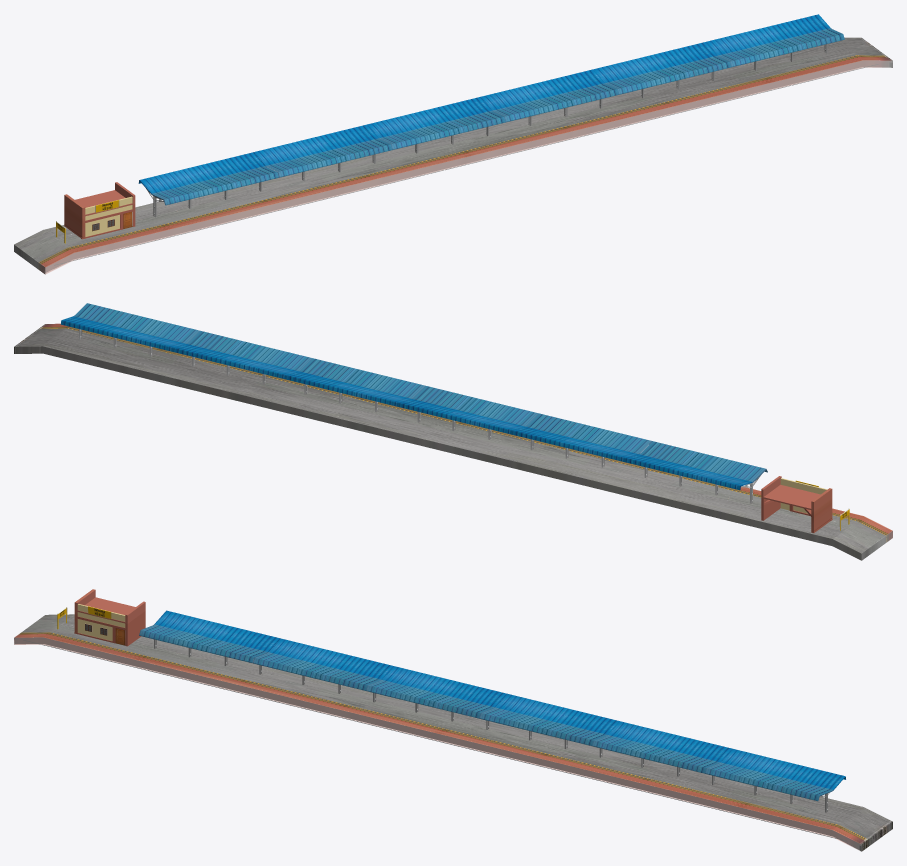
File: station-transformed.glb
3 renders of one model, top to bottom at view 1: azimuth 30°, elevation 25°; view 2: azimuth 150°, elevation 25°; view 3: azimuth 330°, elevation 25°, orthographic.
Parts seen in each view (by area): view 1: Object_2; view 2: Object_2; view 3: Object_2.
Part boxes in pixels (left/top/right/bottom): Object_2: left=14, top=14, right=892, bottom=274; Object_2: left=14, top=303, right=892, bottom=560; Object_2: left=14, top=589, right=892, bottom=851.
Size of the model in its own units: 38.46 by 1.99 by 2.46.
Materials: 1 (1 with a texture image).
